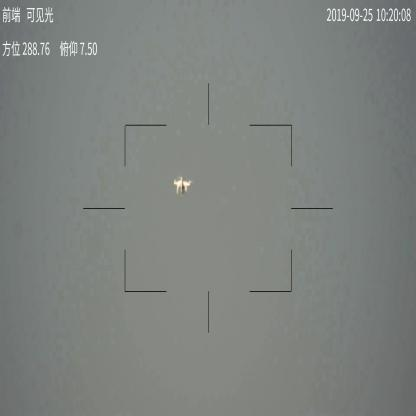uav: (172, 176, 194, 196)
